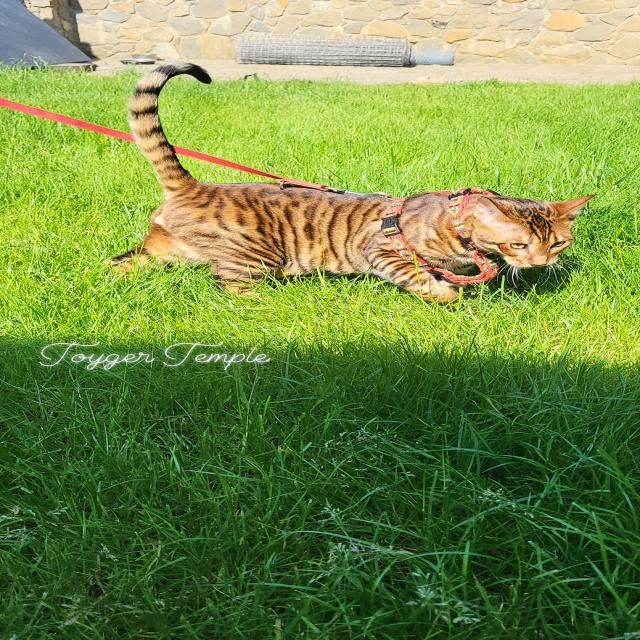Toyger: (89, 57, 602, 313)
